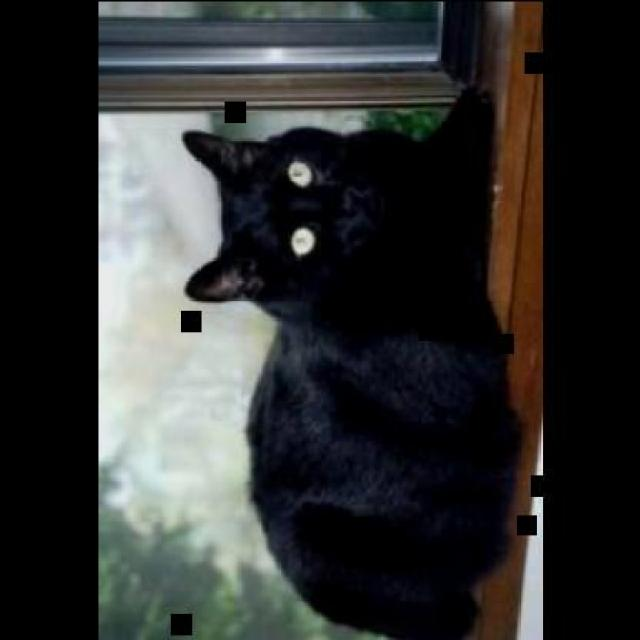unauthorized: (180, 84, 523, 638)
